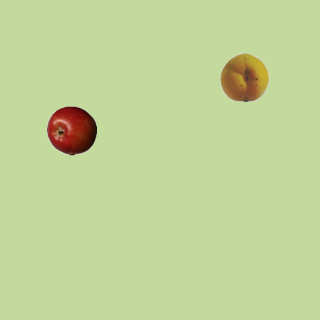Apple Braeburn: (46, 105, 96, 155)
Peach 2: (219, 51, 269, 101)
